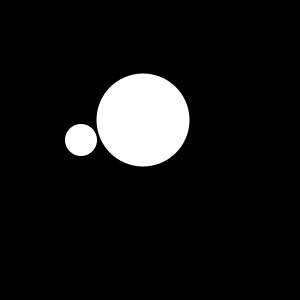rectangle: (96, 74, 190, 167), (65, 124, 97, 156)
